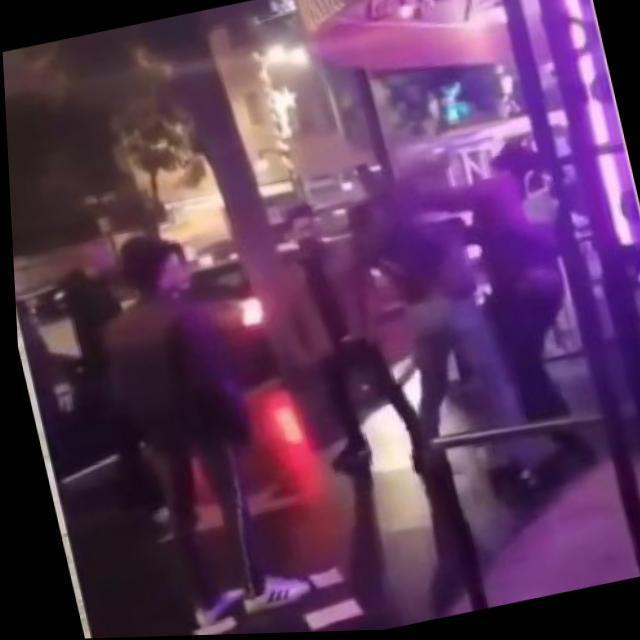fight: (342, 135, 612, 498)
